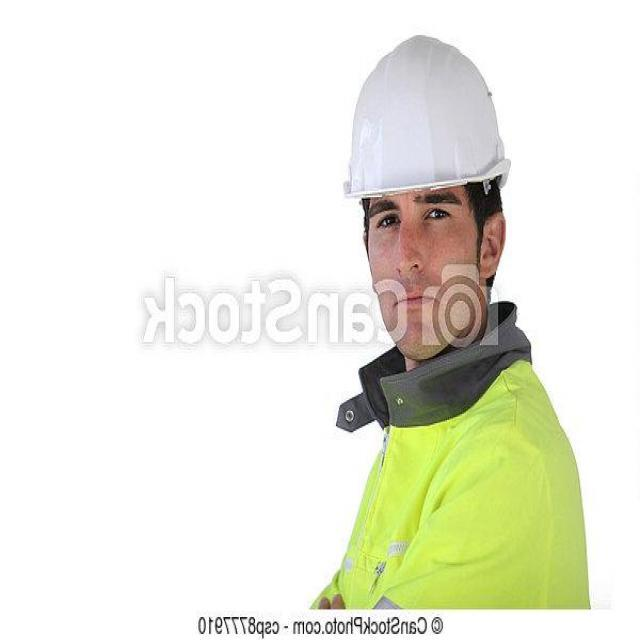reflective_jacket: (314, 344, 598, 608)
safety_helmet: (340, 32, 515, 201)
